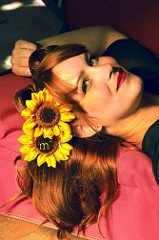flower: (19, 88, 77, 141), (17, 126, 73, 169)
